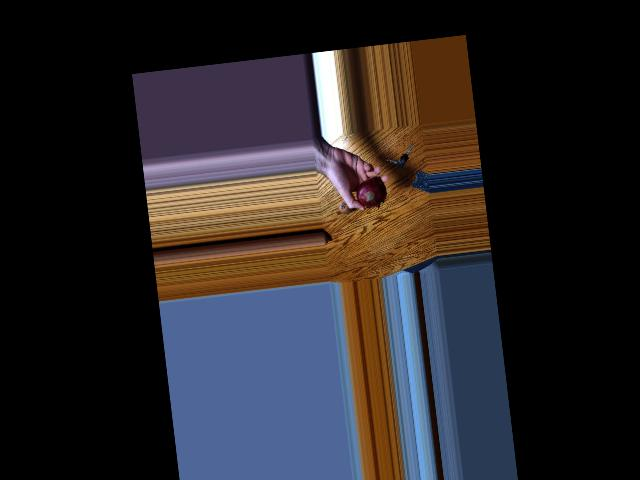onion: (331, 194, 352, 216)
